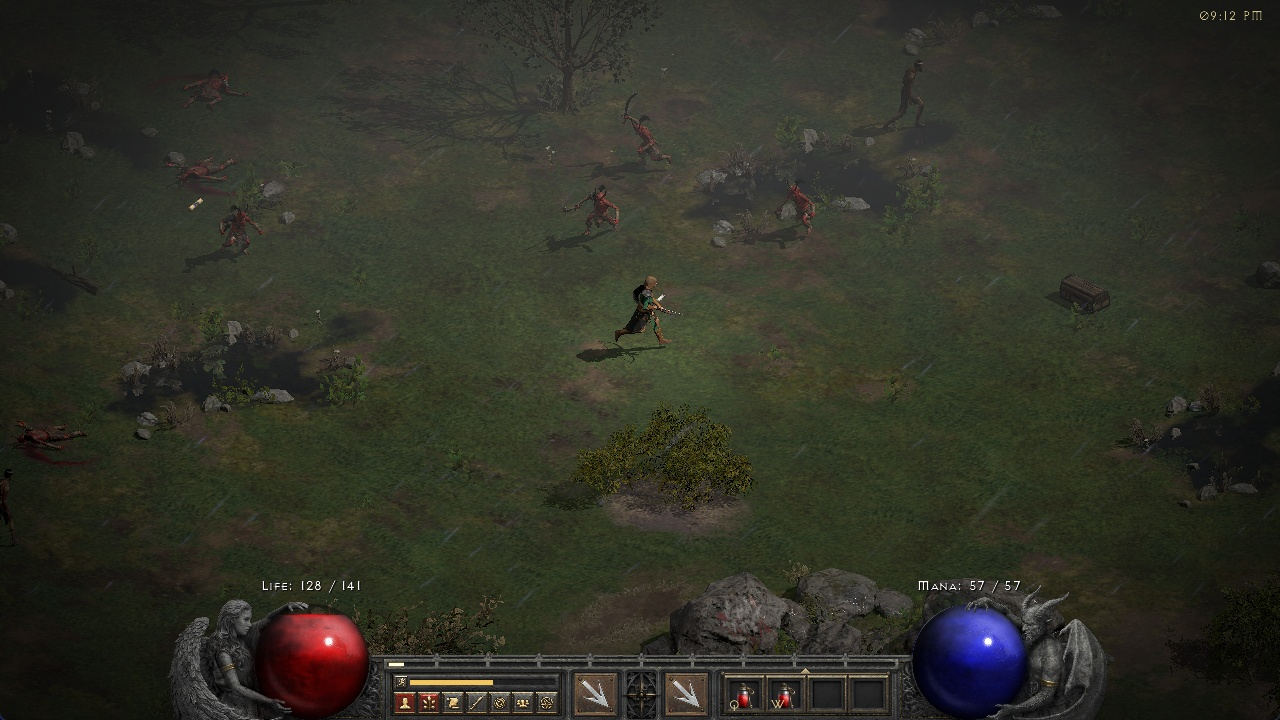fallen: (612, 94, 676, 169), (555, 181, 632, 240), (773, 175, 824, 234), (218, 205, 261, 256)
